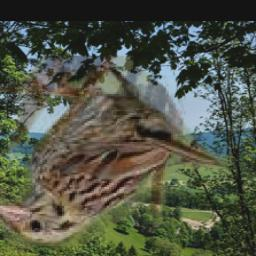Sparrow: (0, 57, 230, 247)
